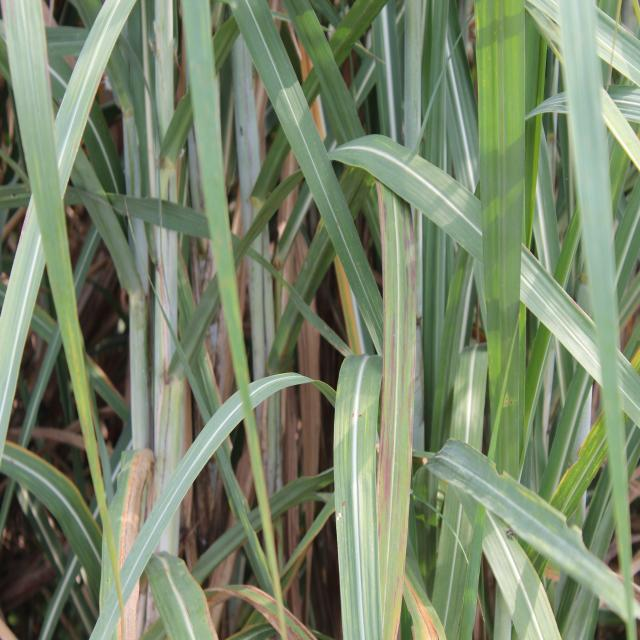Sugarcane: (0, 2, 127, 640), (554, 0, 638, 636), (234, 0, 366, 358), (162, 182, 295, 404), (158, 10, 278, 178), (79, 4, 154, 232), (195, 467, 328, 594), (2, 440, 103, 588), (308, 176, 384, 356), (290, 3, 368, 169), (67, 166, 144, 306), (53, 69, 126, 200), (440, 1, 482, 210)
